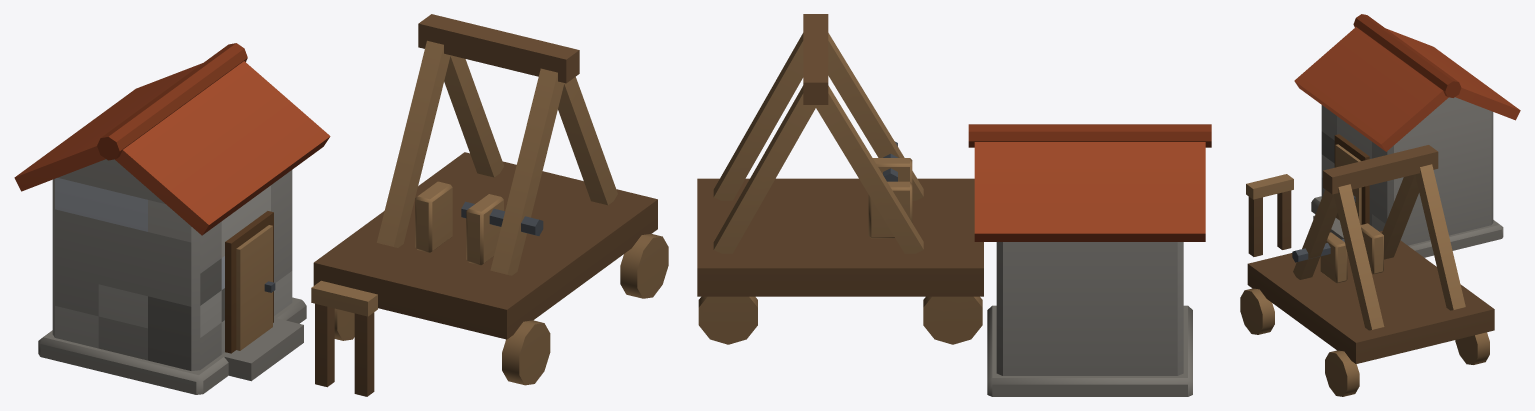
Rendered from building_29.glb.
The picture shows the model from 3 angles, left to right: view 1: azimuth 30°, elevation 25°; view 2: azimuth 150°, elevation 25°; view 3: azimuth 270°, elevation 25°; orthographic projection. The views are drawn at different scales.
Parts seen in each view (by area): view 1: building_29; view 2: building_29; view 3: building_29.
Part boxes in pixels (x1,y1,x2,y2): building_29: (14,14,668,396); building_29: (697,14,1211,396); building_29: (1240,14,1520,396).
Bounding box in the file's own units: 1.04 × 0.464 × 0.5962.
